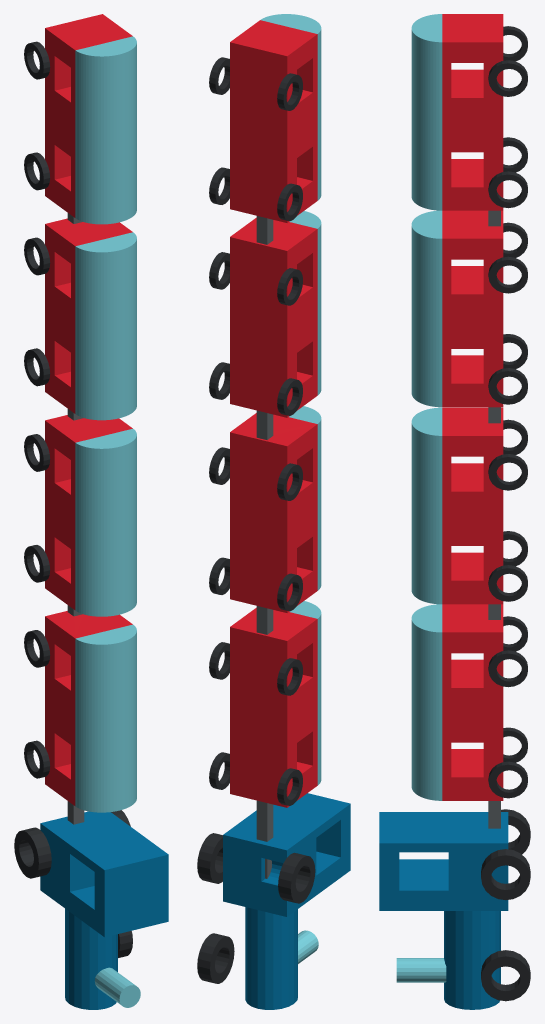
File: tinker.obj
3 views of the same model, side by side, from view 1: azimuth 30°, elevation 25°; view 2: azimuth 150°, elevation 25°; view 3: azimuth 270°, elevation 25° (orthographic).
Visible parts, largest first — view 1: group_0_7720667, group_0_15277357, group_0_30377, group_0_2829873, group_0_6383466; view 2: group_0_15277357, group_0_30377, group_0_2829873, group_0_7720667, group_0_6383466; view 3: group_0_15277357, group_0_7720667, group_0_30377, group_0_2829873, group_0_6383466.
Part boxes in pixels (bbox=[...]): group_0_7720667: bbox=[75, 36, 140, 1007]; group_0_15277357: bbox=[45, 14, 132, 805]; group_0_30377: bbox=[40, 811, 168, 1009]; group_0_2829873: bbox=[14, 41, 132, 957]; group_0_6383466: bbox=[67, 213, 84, 824]; group_0_15277357: bbox=[230, 20, 317, 807]; group_0_30377: bbox=[223, 793, 350, 1009]; group_0_2829873: bbox=[197, 57, 315, 983]; group_0_7720667: bbox=[260, 14, 321, 963]; group_0_6383466: bbox=[256, 216, 273, 878]; group_0_15277357: bbox=[442, 14, 503, 800]; group_0_7720667: bbox=[396, 14, 446, 982]; group_0_30377: bbox=[379, 812, 508, 1009]; group_0_2829873: bbox=[481, 26, 530, 1001]; group_0_6383466: bbox=[488, 210, 500, 828].
Size of the model in its own units: 44 by 432 by 61.
